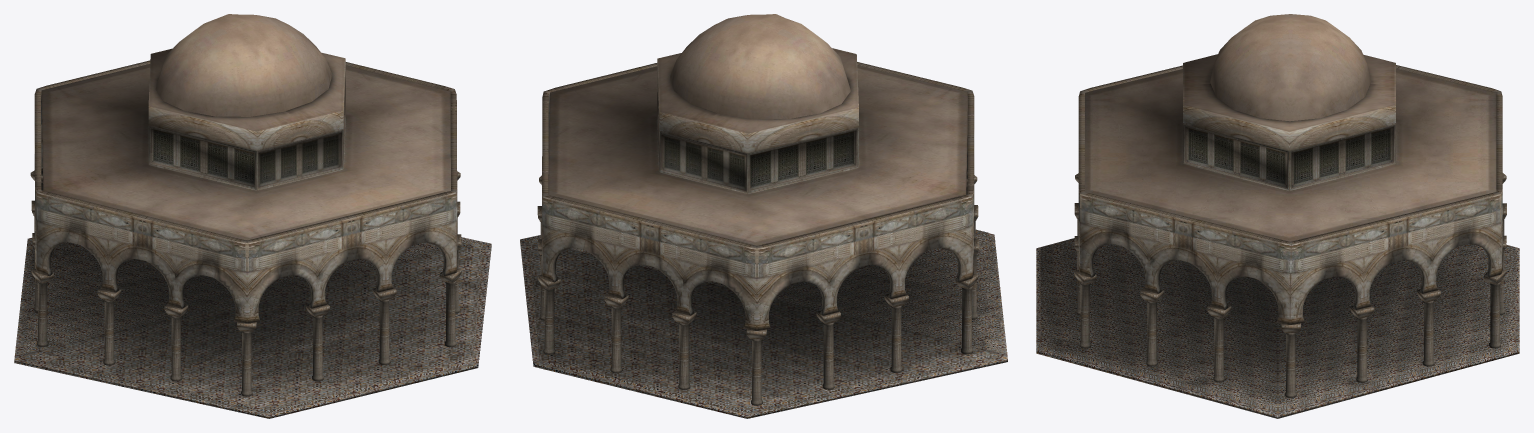
The model's file is building2.gltf.
3 views of the same model, side by side, from view 1: azimuth 30°, elevation 25°; view 2: azimuth 150°, elevation 25°; view 3: azimuth 270°, elevation 25° (orthographic). The views are drawn at different scales.
Visible parts, largest first — view 1: building2; view 2: building2; view 3: building2.
Boxes of the visible parts, x1=… form: building2: x1=14, y1=14, x2=491, y2=418; building2: x1=520, y1=14, x2=1007, y2=418; building2: x1=1036, y1=14, x2=1519, y2=418.
Size of the model in its own units: 9.33 by 5.21 by 8.19.
2 materials, 2 textured.
